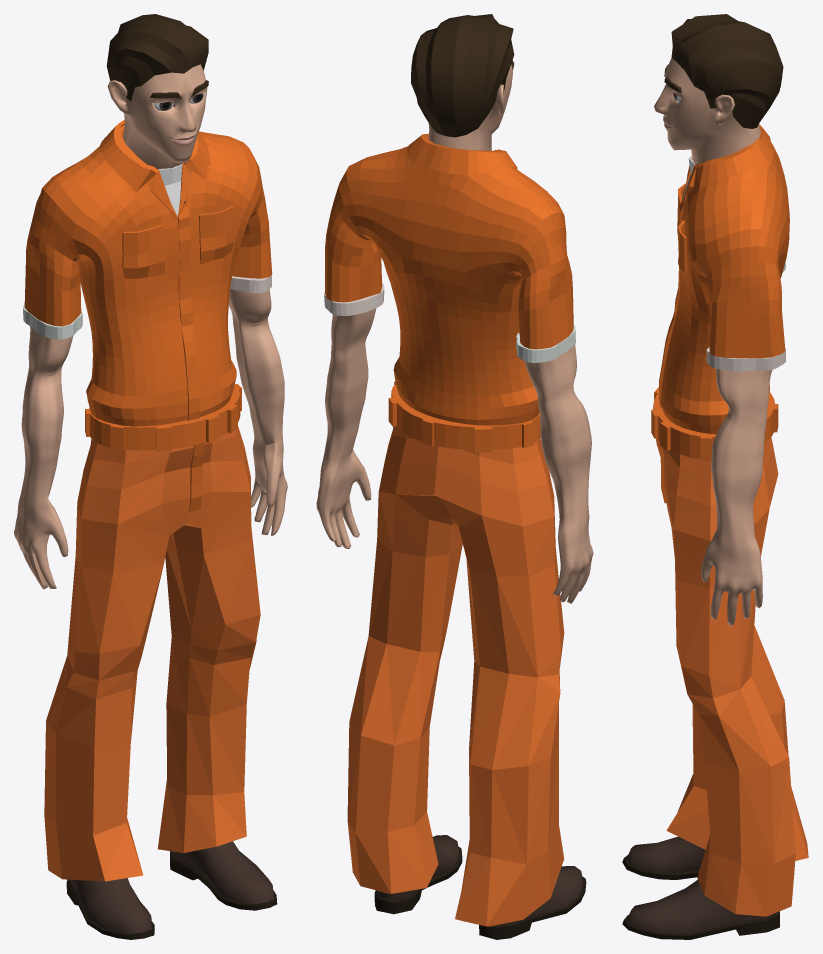
File: Prisoner.fbx
3 renders of one model, left to right at view 1: azimuth 30°, elevation 25°; view 2: azimuth 150°, elevation 25°; view 3: azimuth 270°, elevation 25°, orthographic.
Visible parts, largest first — view 1: Character_Base.001; view 2: Character_Base.001; view 3: Character_Base.001.
Part boxes in pixels (x1,y1,x2,y2): Character_Base.001: (14,14,287,939); Character_Base.001: (316,14,593,939); Character_Base.001: (622,14,808,939).
Bounding box in the file's own units: 55.54 × 178 × 34.27.
